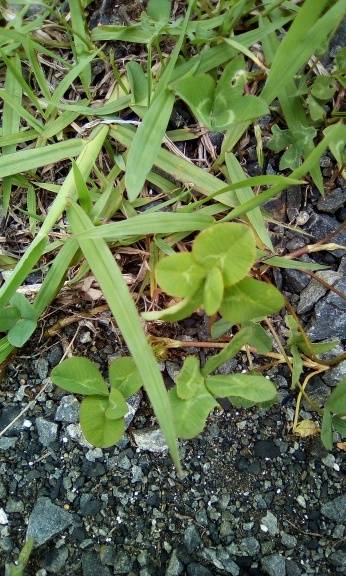4leaf: (139, 220, 286, 325), (163, 325, 278, 441), (49, 355, 152, 449)
